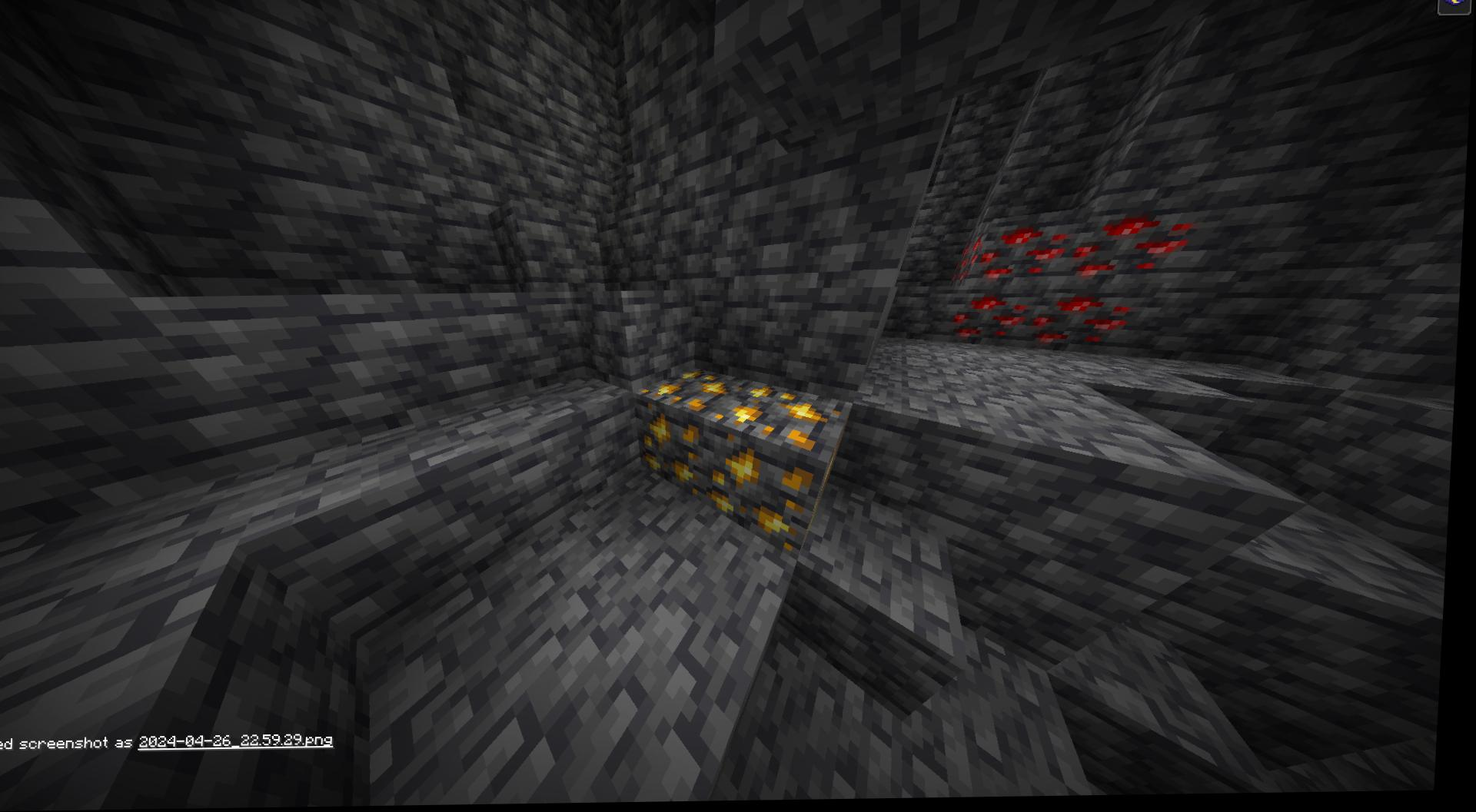gold ore: (716, 436, 825, 554), (727, 382, 846, 457), (639, 405, 719, 502), (649, 367, 734, 417)
redstone ore: (1071, 211, 1201, 288), (967, 221, 1069, 289), (1037, 291, 1125, 364), (957, 289, 1029, 354)
